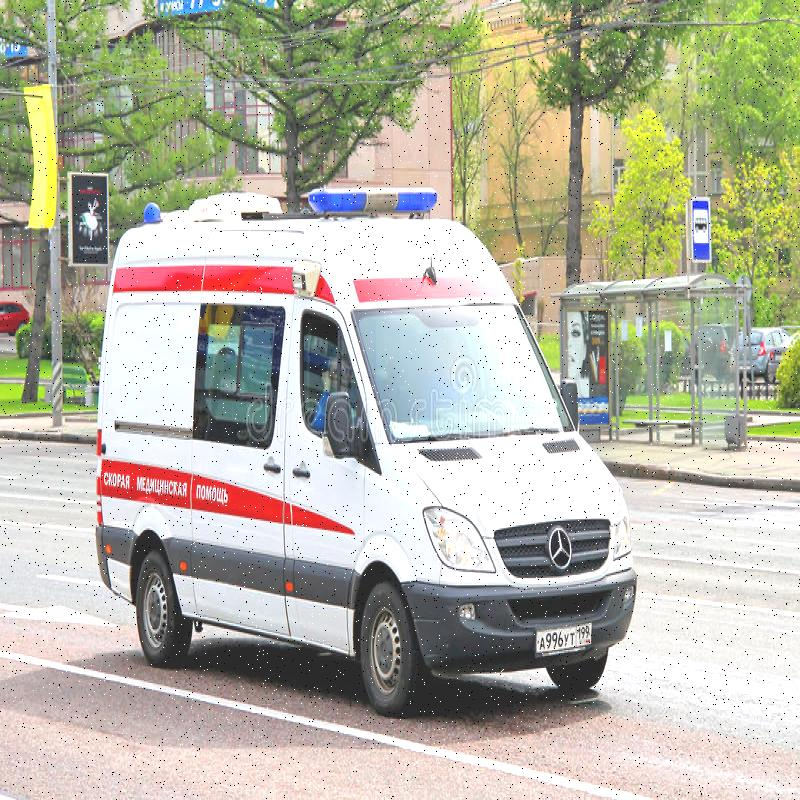AmbulanceSiren: (300, 157, 449, 242)
ambulance: (93, 172, 643, 714)
